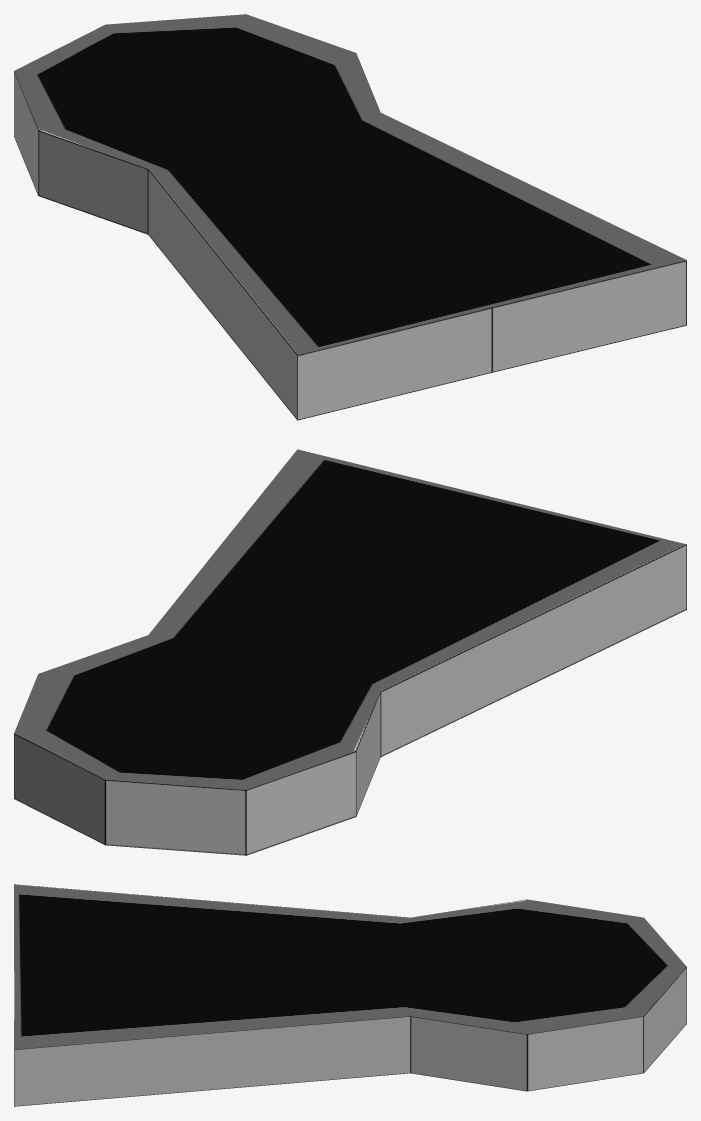
The model's file is keyhole.glb.
3 renders of one model, top to bottom at view 1: azimuth 30°, elevation 25°; view 2: azimuth 150°, elevation 25°; view 3: azimuth 270°, elevation 25°, orthographic. The views are drawn at different scales.
Visible parts, largest first — view 1: Cube; view 2: Cube; view 3: Cube.
Part boxes in pixels (box(x1,y1,x2,y2)): Cube: box(14, 14, 686, 420); Cube: box(14, 449, 686, 855); Cube: box(14, 884, 686, 1106).
Size of the model in its own units: 3.74 by 0.6007 by 6.43.
Materials: 1 (1 with a texture image).
